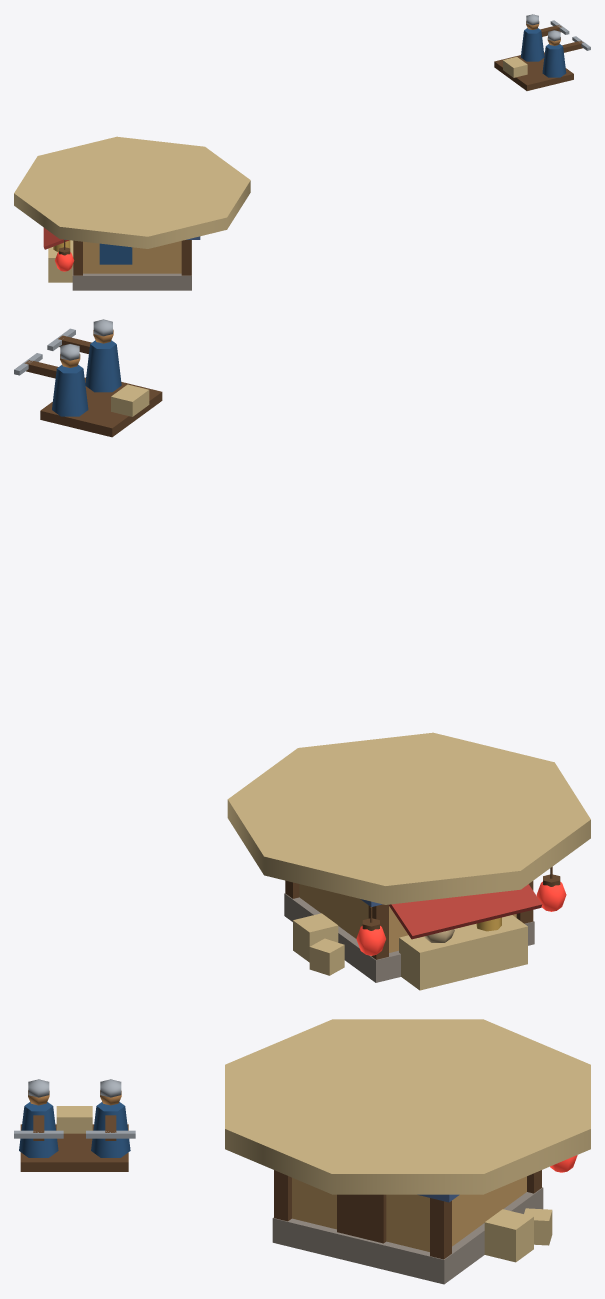
The model's file is base_merchant_weapon_1.glb.
3 renders of one model, top to bottom at view 1: azimuth 30°, elevation 25°; view 2: azimuth 150°, elevation 25°; view 3: azimuth 270°, elevation 25°, orthographic. The views are drawn at different scales.
Visible parts, largest first — view 1: tower_slot_1_plate, tower_slot_1_house, tower_slot_1_plinth, weapon_mount, crossbowman_l_body, crossbowman_r_body, tower_slot_1_banner, tower_slot_1_counter, bolt_crate, tower_slot_1_post_3; view 2: tower_slot_1_plate, tower_slot_1_counter, tower_slot_1_awning, weapon_mount, tower_slot_1_house, tower_slot_1_plinth, crossbowman_r_body, crossbowman_l_body, tower_slot_1_crate_0, tower_slot_1_crate_1, bolt_crate; view 3: tower_slot_1_plate, tower_slot_1_plinth, tower_slot_1_house, weapon_mount, tower_slot_1_door, tower_slot_1_crate_0, crossbowman_r_body, crossbowman_l_body, tower_slot_1_post_2, bolt_crate, tower_slot_1_post_3, tower_slot_1_crate_1 (+4 smaller).
Boxes of the visible parts, box(x1,y1,x2,y2) form: tower_slot_1_plate: box(14, 136, 250, 248); tower_slot_1_house: box(83, 241, 181, 273); tower_slot_1_plinth: box(72, 240, 191, 290); weapon_mount: box(494, 52, 573, 90); crossbowman_l_body: box(520, 28, 544, 61); crossbowman_r_body: box(542, 44, 566, 77); tower_slot_1_banner: box(99, 243, 132, 264); tower_slot_1_counter: box(48, 240, 73, 282); bolt_crate: box(503, 57, 527, 77); tower_slot_1_post_3: box(181, 240, 191, 275); tower_slot_1_plate: box(227, 732, 590, 904); tower_slot_1_counter: box(399, 915, 527, 990); tower_slot_1_awning: box(389, 884, 542, 939); weapon_mount: box(40, 377, 162, 437); tower_slot_1_house: box(299, 884, 516, 952); tower_slot_1_plinth: box(284, 893, 534, 982); crossbowman_r_body: box(85, 340, 121, 392); crossbowman_l_body: box(52, 364, 88, 416); tower_slot_1_crate_0: box(293, 913, 338, 962); tower_slot_1_crate_1: box(309, 938, 344, 975); bolt_crate: box(111, 384, 149, 416); tower_slot_1_plate: box(225, 1019, 590, 1194); tower_slot_1_plinth: box(272, 1187, 543, 1284); tower_slot_1_house: box(292, 1176, 526, 1251); weapon_mount: box(20, 1124, 128, 1171); tower_slot_1_door: box(337, 1194, 386, 1243); tower_slot_1_crate_0: box(484, 1209, 533, 1262); crossbowman_r_body: box(19, 1102, 58, 1157); crossbowman_l_body: box(91, 1102, 130, 1157); tower_slot_1_post_2: box(430, 1198, 451, 1259); bolt_crate: box(56, 1106, 92, 1133); tower_slot_1_post_3: box(274, 1170, 291, 1221); tower_slot_1_crate_1: box(524, 1208, 552, 1245).
Size of the model in its own units: 0.9263 by 0.4889 by 0.6408.
